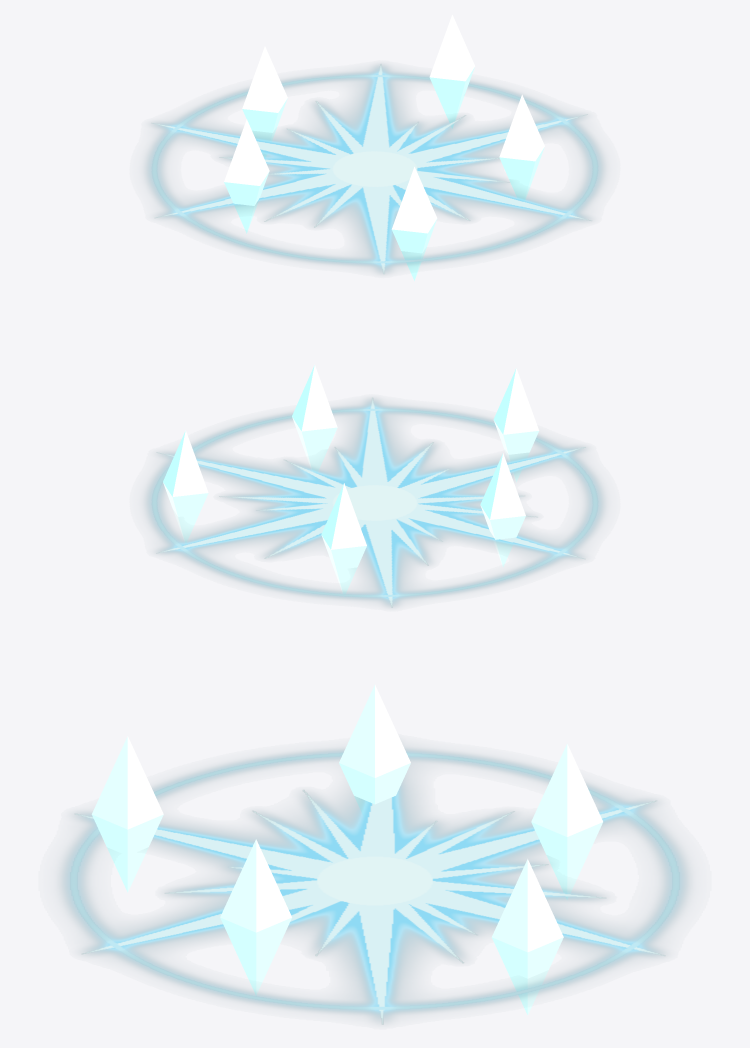
File: fx_frost.glb
The picture shows the model from 3 angles, top to bottom: view 1: azimuth 30°, elevation 25°; view 2: azimuth 150°, elevation 25°; view 3: azimuth 270°, elevation 25°; orthographic projection. The views are drawn at different scales.
Parts seen in each view (by area): view 1: fx_frost_burst, fx_frost_spike; view 2: fx_frost_burst, fx_frost_spike; view 3: fx_frost_burst, fx_frost_spike.
Part boxes in pixels (bbox=[...]): fx_frost_burst: bbox=[145, 63, 604, 274]; fx_frost_spike: bbox=[224, 15, 544, 280]; fx_frost_burst: bbox=[145, 397, 604, 607]; fx_frost_spike: bbox=[163, 365, 539, 596]; fx_frost_burst: bbox=[60, 747, 689, 1024]; fx_frost_spike: bbox=[91, 685, 602, 1015].
Size of the model in its own units: 1 by 0.24 by 1.
2 materials, 1 textured.
